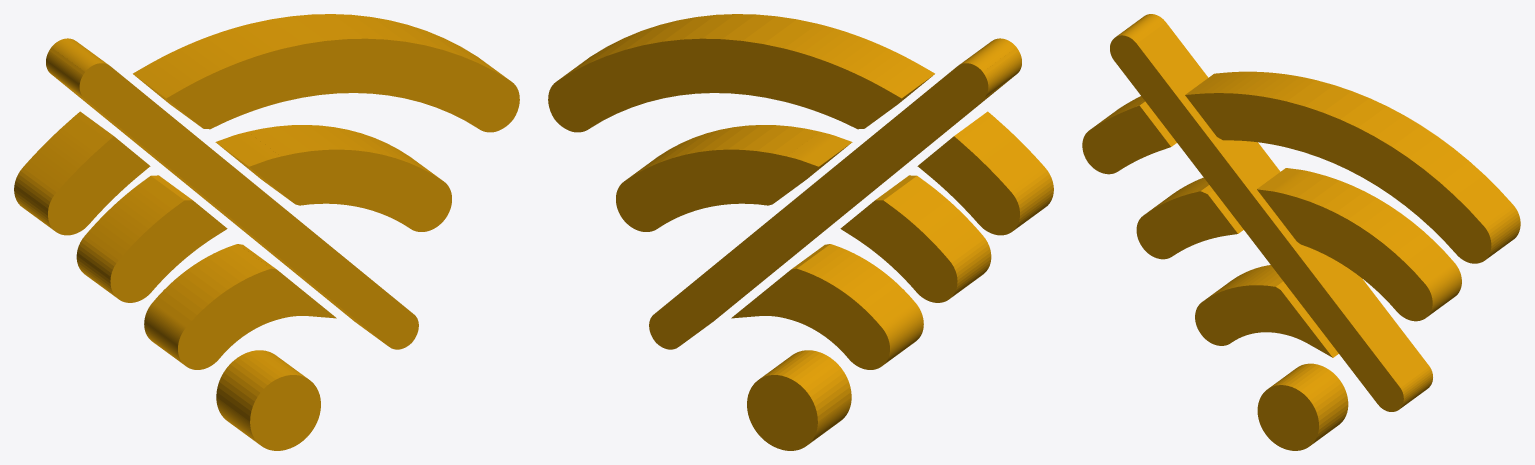
The picture shows the model from 3 angles, left to right: view 1: azimuth 30°, elevation 25°; view 2: azimuth 150°, elevation 25°; view 3: azimuth 330°, elevation 25°; orthographic projection. The views are drawn at different scales.
Visible parts, largest first — view 1: Curve.002; view 2: Curve.002; view 3: Curve.002.
Boxes of the visible parts, bbox=[...] form: Curve.002: bbox=[14, 14, 519, 450]; Curve.002: bbox=[548, 14, 1053, 450]; Curve.002: bbox=[1082, 14, 1520, 450].
Size of the model in its own units: 12.64 by 11.06 by 1.57.
